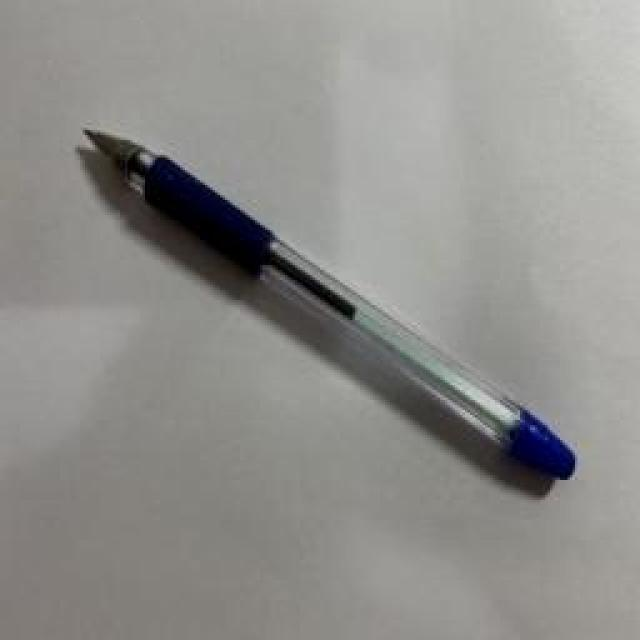pen: (80, 128, 575, 483)
